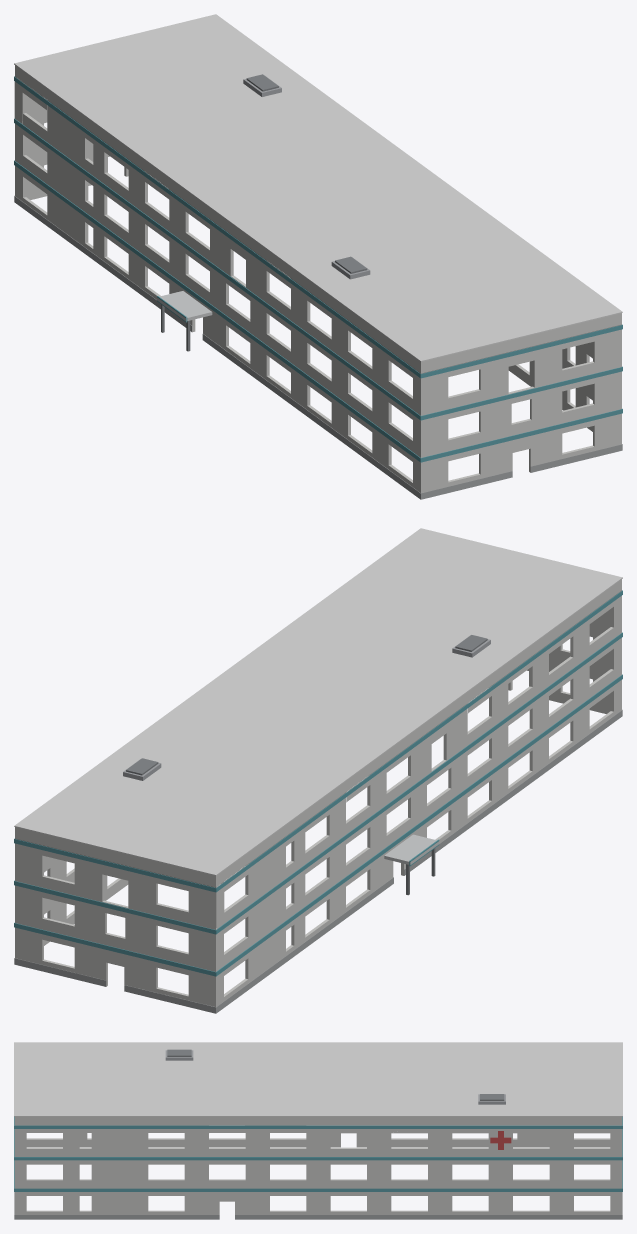
The model's file is hosp-east.zfix-v14.lod1.glb.
The picture shows the model from 3 angles, top to bottom: view 1: azimuth 30°, elevation 25°; view 2: azimuth 150°, elevation 25°; view 3: azimuth 270°, elevation 25°; orthographic projection. The views are drawn at different scales.
Parts seen in each view (by area): view 1: hosp-east; view 2: hosp-east; view 3: hosp-east.
Part boxes in pixels (box(x1,y1,x2,y2)): hosp-east: box(14, 14, 622, 499); hosp-east: box(14, 528, 622, 1013); hosp-east: box(14, 1042, 622, 1219).
Size of the model in its own units: 22.71 by 13.76 by 70.12.
